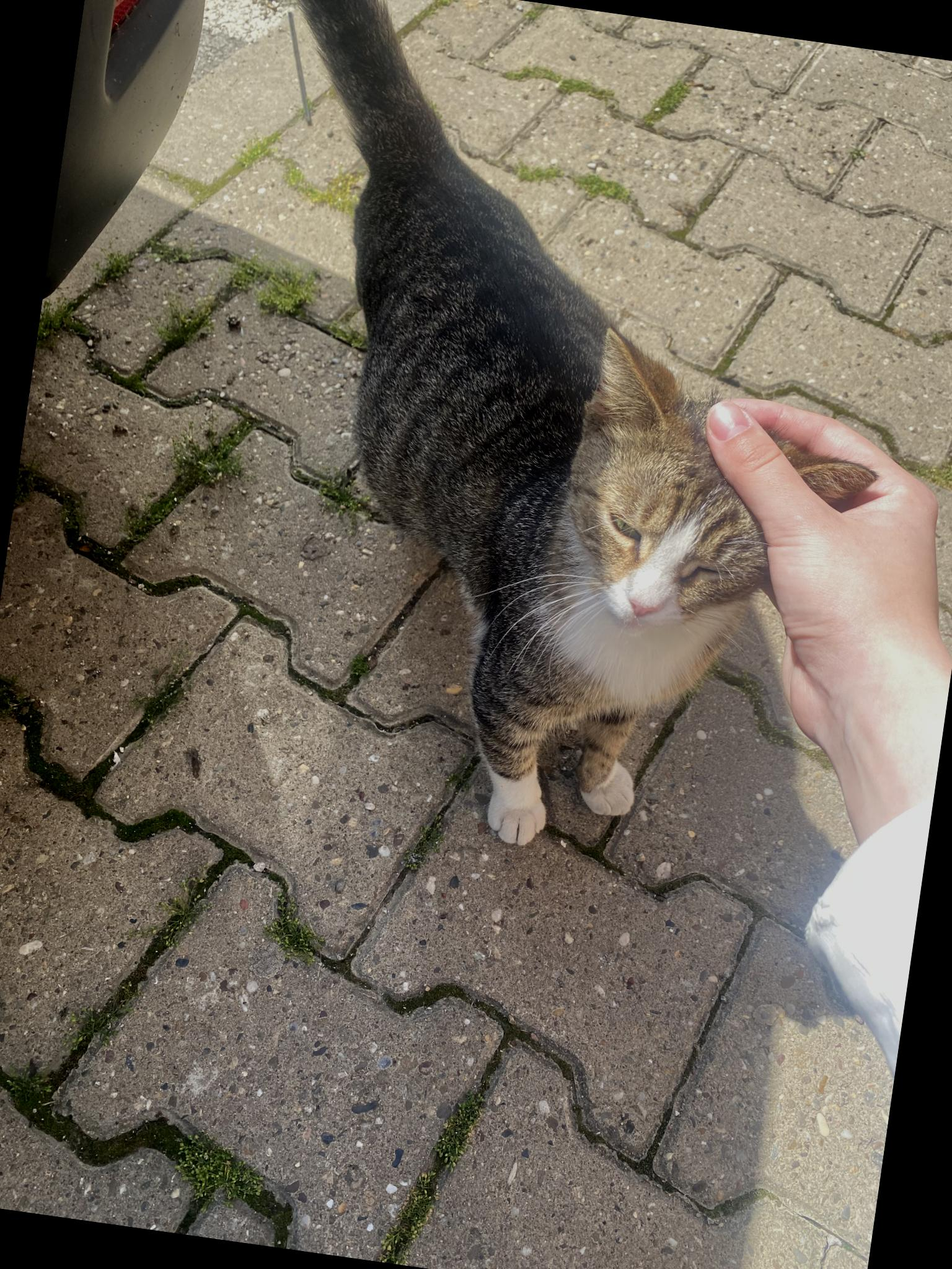macka: (164, 0, 936, 892)
